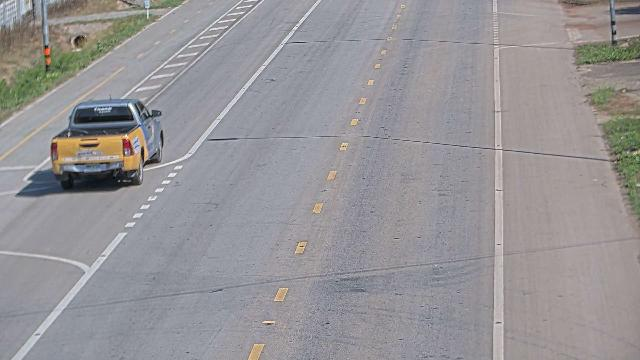pickup-truck: (49, 95, 164, 190)
